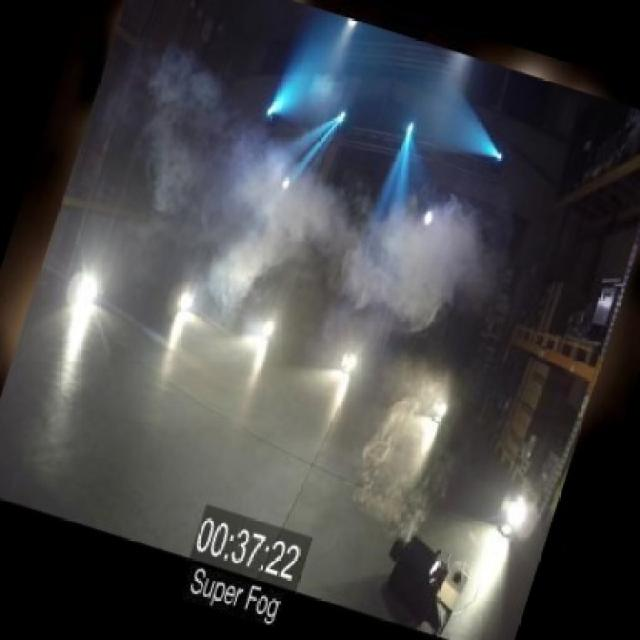smoke: (195, 126, 482, 329)
